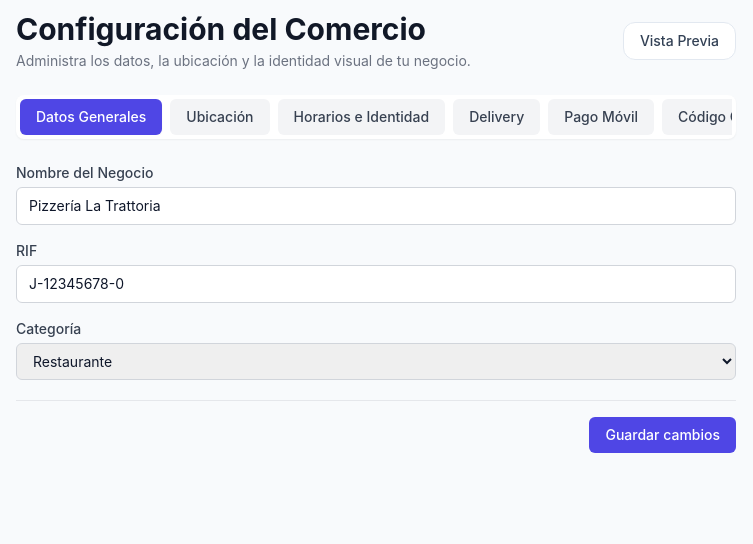
MerchantSettingsPage › normaliza el banco escrito a mano antes del selector
What coordinates should you click on to do the following:
click the button "Pago Móvil"
I would click on:
 (601, 117)
Its box is [548,99,654,135].
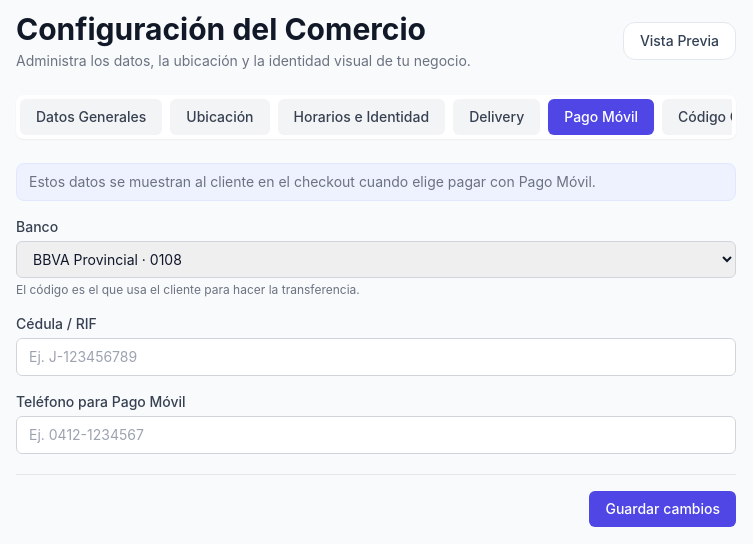
Now the dropdown labelled "Banco" shows "BBVA Provincial · 0108", box [16,241,736,278]
